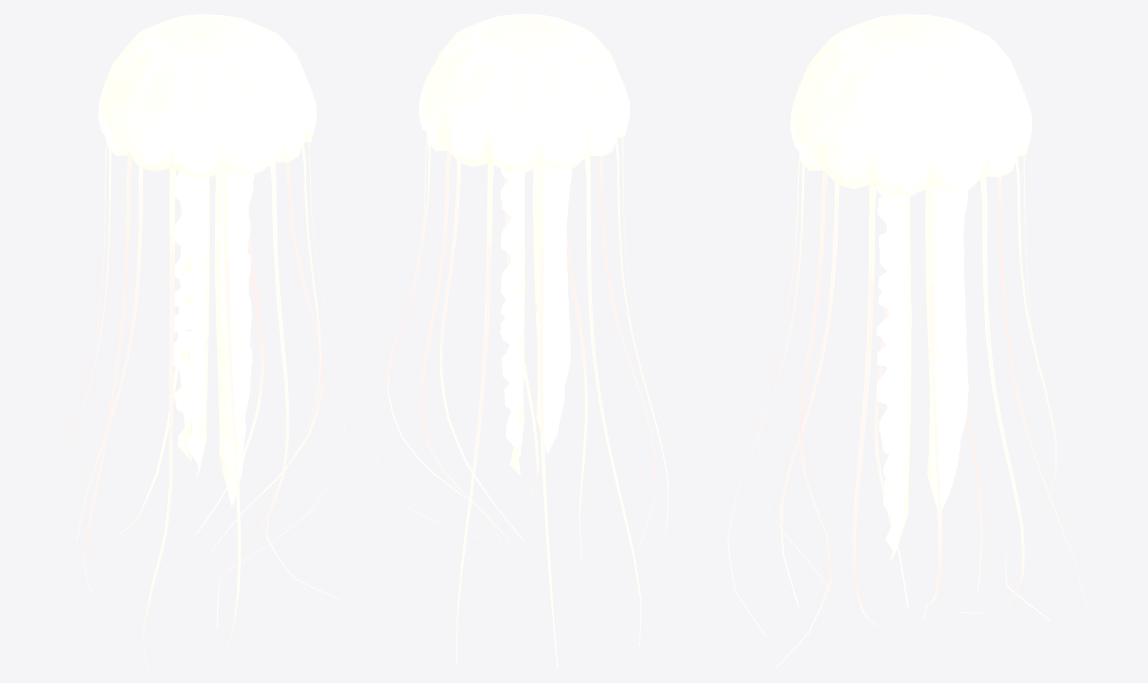
File: Jellyfish2.glb
3 renders of one model, left to right at view 1: azimuth 30°, elevation 25°; view 2: azimuth 150°, elevation 25°; view 3: azimuth 270°, elevation 25°, orthographic. The views are drawn at different scales.
Visible parts, largest first — view 1: Jellyfish.1; view 2: Jellyfish.1; view 3: Jellyfish.1.
Part boxes in pixels (bbox=[...]): Jellyfish.1: bbox=[14, 14, 345, 668]; Jellyfish.1: bbox=[374, 14, 698, 668]; Jellyfish.1: bbox=[727, 14, 1133, 668].
Bounding box in the file's own units: 1.63 × 3.23 × 1.85.
1 material, 1 textured.
